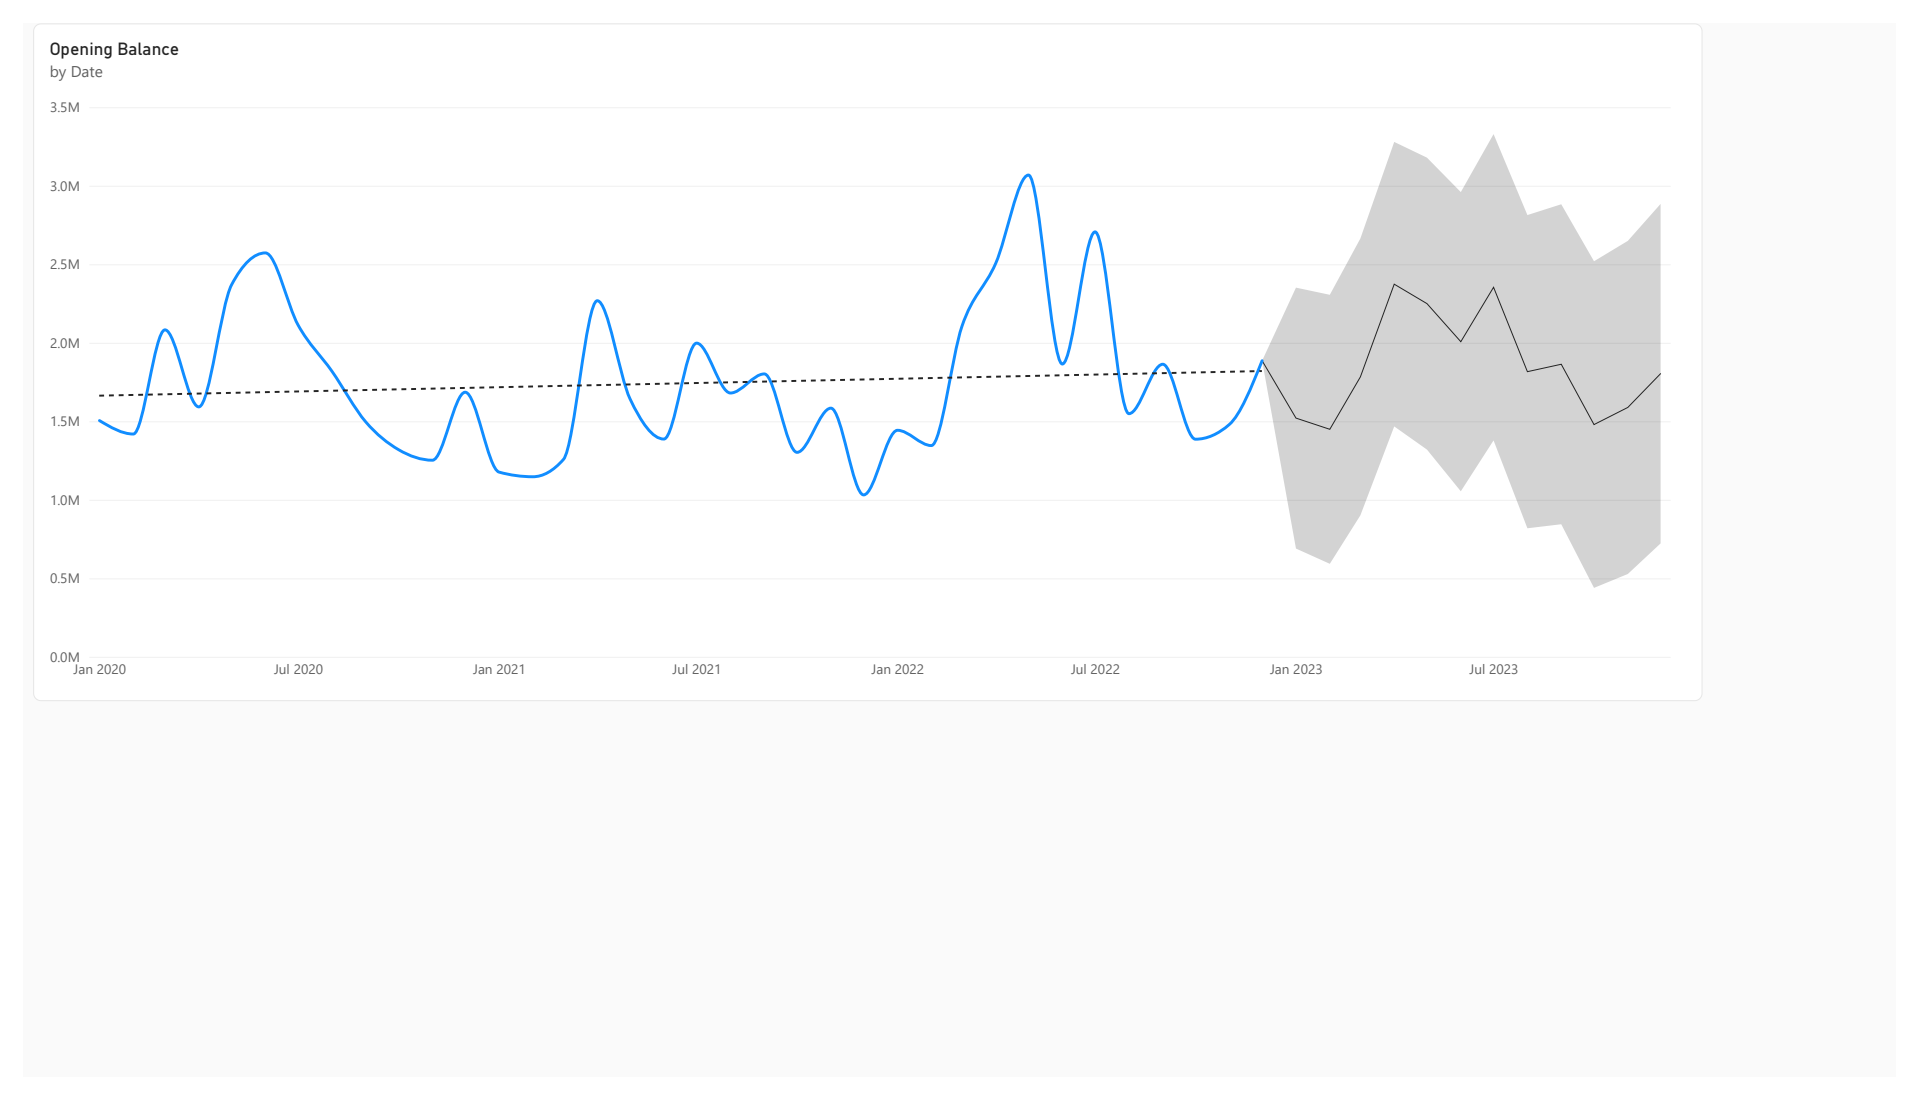

What the dashboard file says about the page in this screenshot:
{"tool":"powerbi","page":{"name":"Trend & forecast","canvas":[1920,1080],"ordinal":0},"visuals":[{"type":"lineChart","fields":{"Category":["Date.Date"],"Y":["power_bi_monthly.Opening Balance"]},"box":[10.1,0,1712.1,695.5],"z":0}]}

Visuals, with their boxes in screenshot pixels (x1, y1, x2, y2), scaled from the page's 1920x1080 canvas onto the 1919x1100 screenshot:
lineChart - Date.Date x power_bi_monthly.Opening Balance: [x1=10, y1=0, x2=1721, y2=708]
